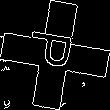P_E: (27, 32, 83, 78)
